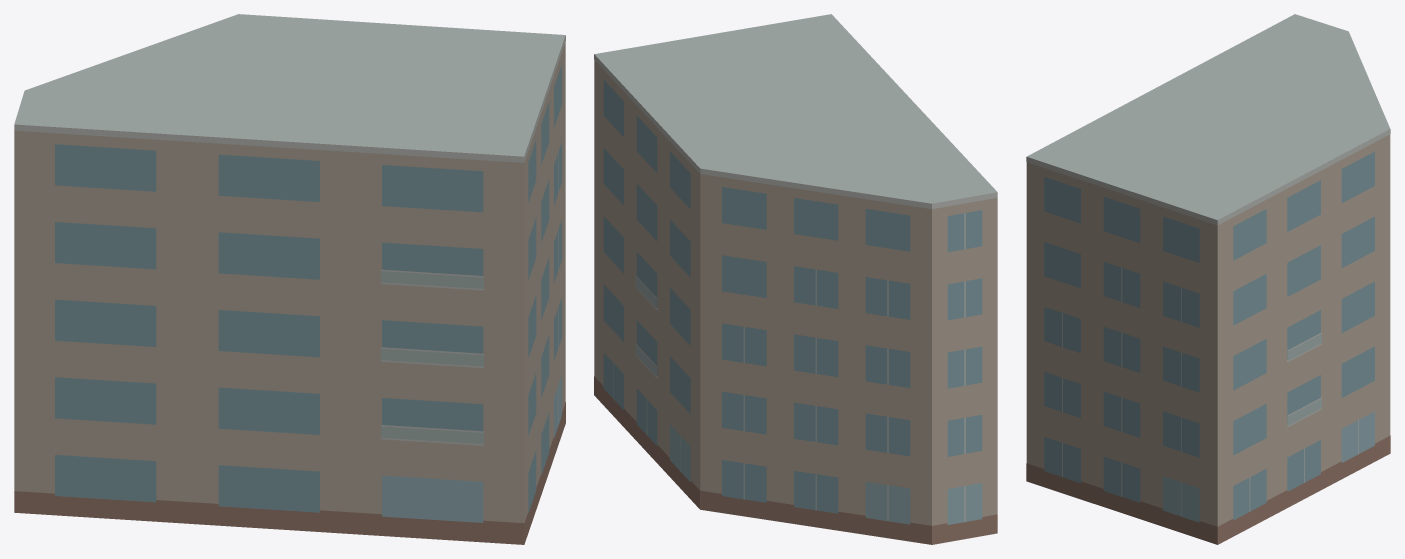
File: survey-upis-32970666.glb
3 renders of one model, left to right at view 1: azimuth 30°, elevation 25°; view 2: azimuth 150°, elevation 25°; view 3: azimuth 270°, elevation 25°, orthographic. The views are drawn at different scales.
Visible parts, largest first — view 1: survey-upis-32970666.tmp; view 2: survey-upis-32970666.tmp; view 3: survey-upis-32970666.tmp.
Boxes of the visible parts, x1=… form: survey-upis-32970666.tmp: x1=14, y1=14, x2=565, y2=544; survey-upis-32970666.tmp: x1=594, y1=14, x2=997, y2=544; survey-upis-32970666.tmp: x1=1026, y1=14, x2=1390, y2=544.
Bounding box in the file's own units: 20.78 × 15.25 × 15.5.
